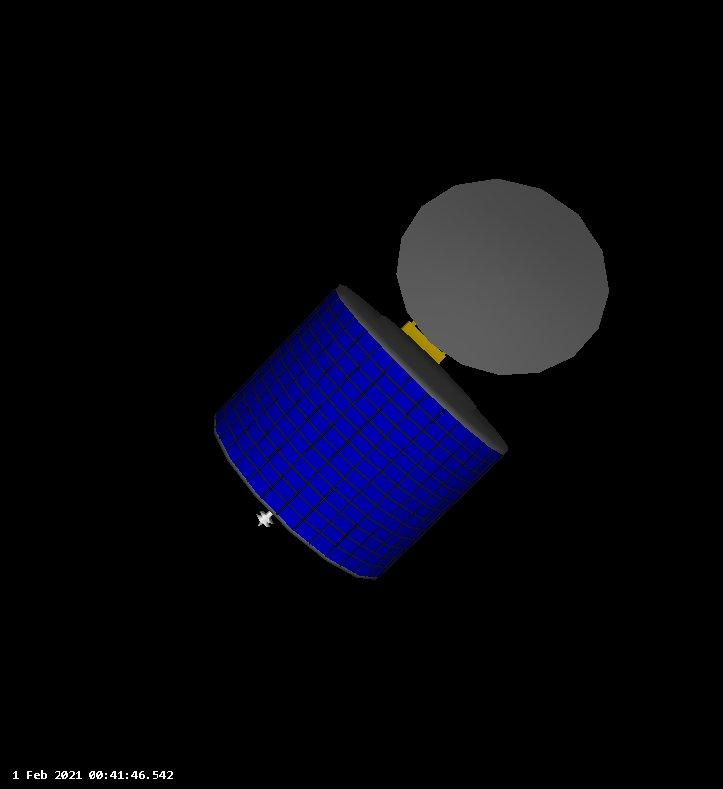antenna: (396, 174, 612, 379), (251, 508, 278, 533)
body: (213, 282, 516, 582)
solar: (211, 282, 512, 585)
